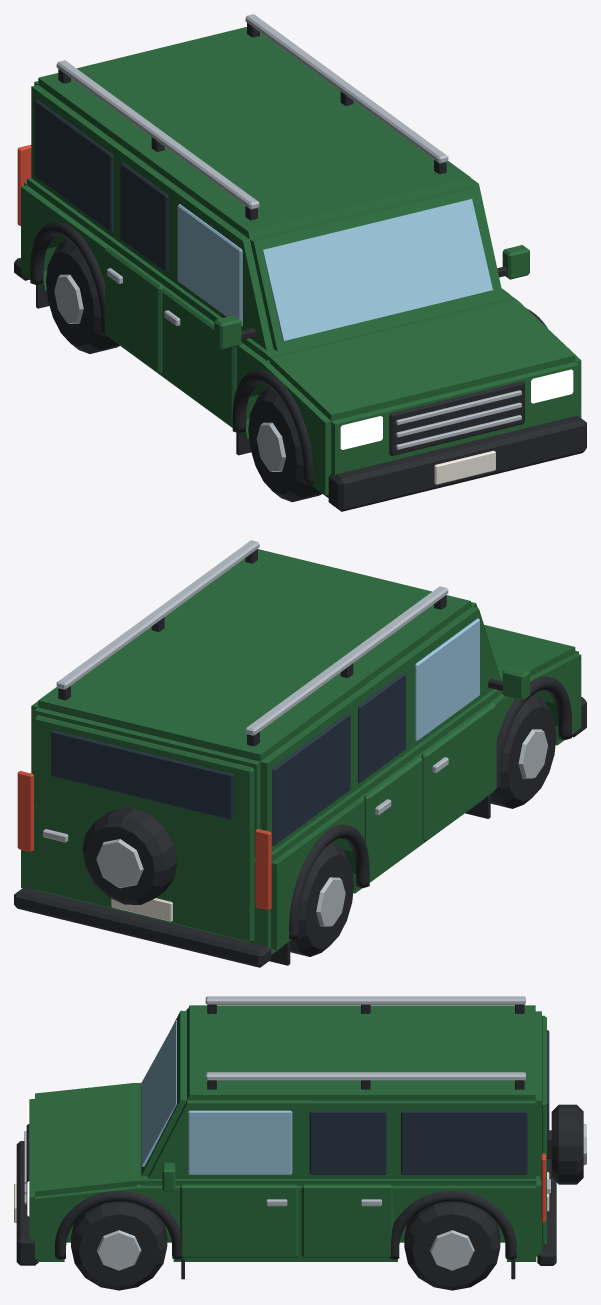
File: family-suv.glb
The picture shows the model from 3 angles, top to bottom: view 1: azimuth 30°, elevation 25°; view 2: azimuth 150°, elevation 25°; view 3: azimuth 270°, elevation 25°; orthographic projection. The views are drawn at different scales.
Parts seen in each view (by area): view 1: Body, Windshield, Bumper_Front, QuarterWindow.001, Door_FR, Door_FR_Window, Door_RR, Wheel_RR, Wheel_FR, Grille, Door_RR_Window, RoofRail.001 (+12 smaller); view 2: Body, Tailgate, Tailgate_Window, SpareTyre, Door_FR, QuarterWindow.001, Bumper_Rear, Door_FR_Window, Door_RR, Wheel_FR, Wheel_RR, Door_RR_Window (+8 smaller); view 3: Body, Door_FL, QuarterWindow, Wheel_RL, Wheel_FL, Door_FL_Window, Door_RL, Door_RL_Window, Windshield, RoofRail.001, RoofRail, SpareTyre (+6 smaller).
Boxes of the visible parts, x1,y1,x2,y2 form: Body: (21,27,581,497); Windshield: (262,199,492,341); Bumper_Front: (328,415,586,511); QuarterWindow.001: (34,99,113,232); Door_FR: (162,289,236,426); Door_FR_Window: (177,204,242,326); Door_RR: (105,247,163,373); Wheel_RR: (46,240,119,353); Wheel_FR: (248,388,321,502); Grille: (389,381,524,455); Door_RR_Window: (120,162,168,272); RoofRail.001: (56,60,259,209); Body: (21,549,581,954); Tailgate: (34,715,254,942); Tailgate_Window: (51,730,233,819); SpareTyre: (82,808,177,904); Door_FR: (421,702,496,841); QuarterWindow.001: (272,713,350,845); Bumper_Rear: (14,887,271,967); Door_FR_Window: (415,618,479,740); Door_RR: (364,756,422,881); Wheel_FR: (490,694,556,808); Wheel_RR: (290,843,353,956); Door_RR_Window: (358,672,405,783); Body: (29,1005,541,1261); Door_FL: (180,1184,298,1257); QuarterWindow: (401,1110,527,1174); Wheel_RL: (404,1202,500,1290); Wheel_FL: (71,1202,167,1290); Door_FL_Window: (188,1110,292,1174); Door_RL: (301,1184,392,1257); Door_RL_Window: (309,1110,386,1174); Windshield: (141,1020,176,1166); RoofRail.001: (205,996,525,1004); RoofRail: (205,1072,525,1080); SpareTyre: (551,1104,586,1184).
Size of the model in its own units: 9.2 by 7.1 by 17.88.
